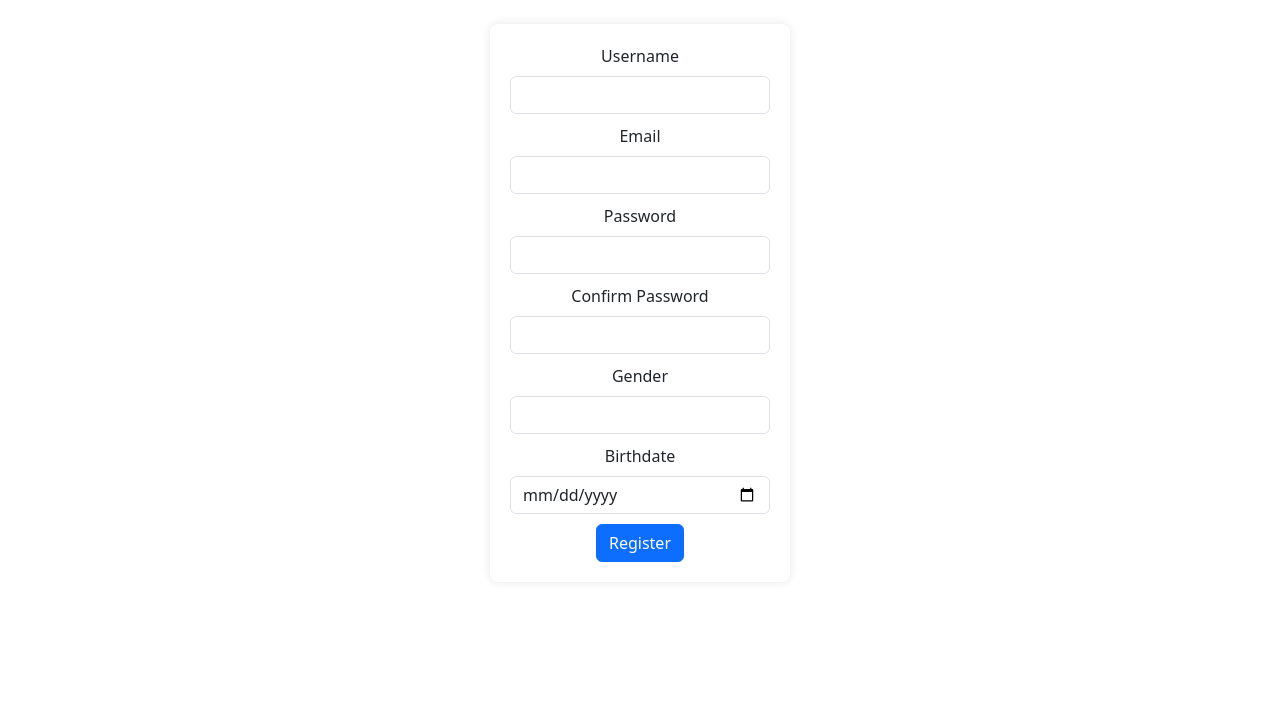
it: If password != confirm_password the popup for this error should be displayed
Type "testuser" into the field labelled "Username" at (640,95), box [510,76,770,114]
Type "test@test.com " into the field labelled "Email" at (640,175), box [510,156,770,194]
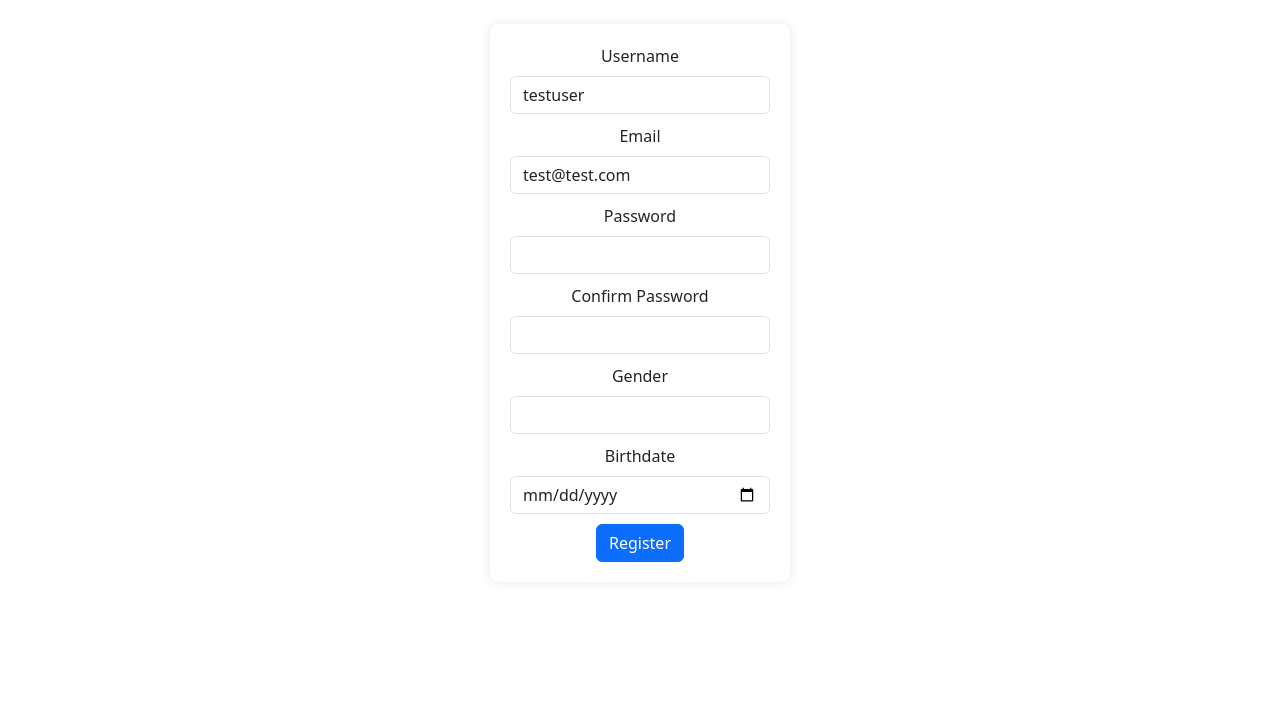
Type "password" into the password field labelled "Password" at (640,255), box [510,236,770,274]
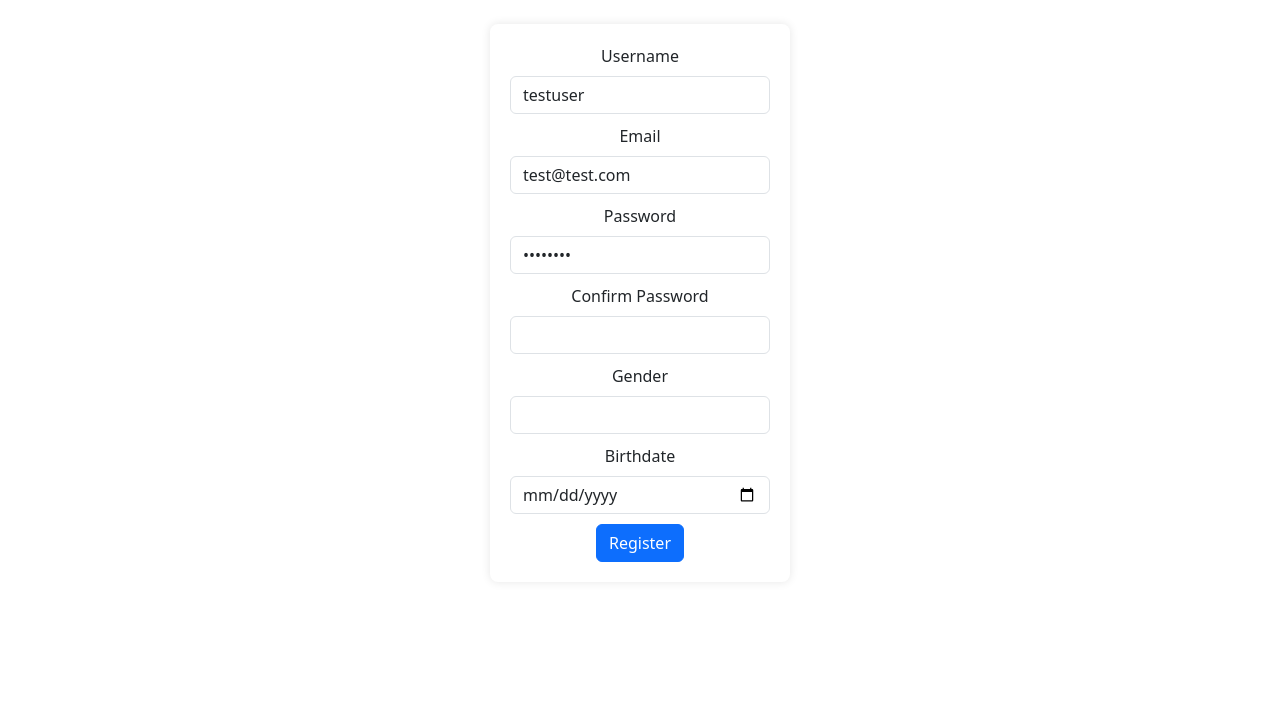
Type "p" into the password field labelled "Confirm Password" at (640,335), box [510,316,770,354]
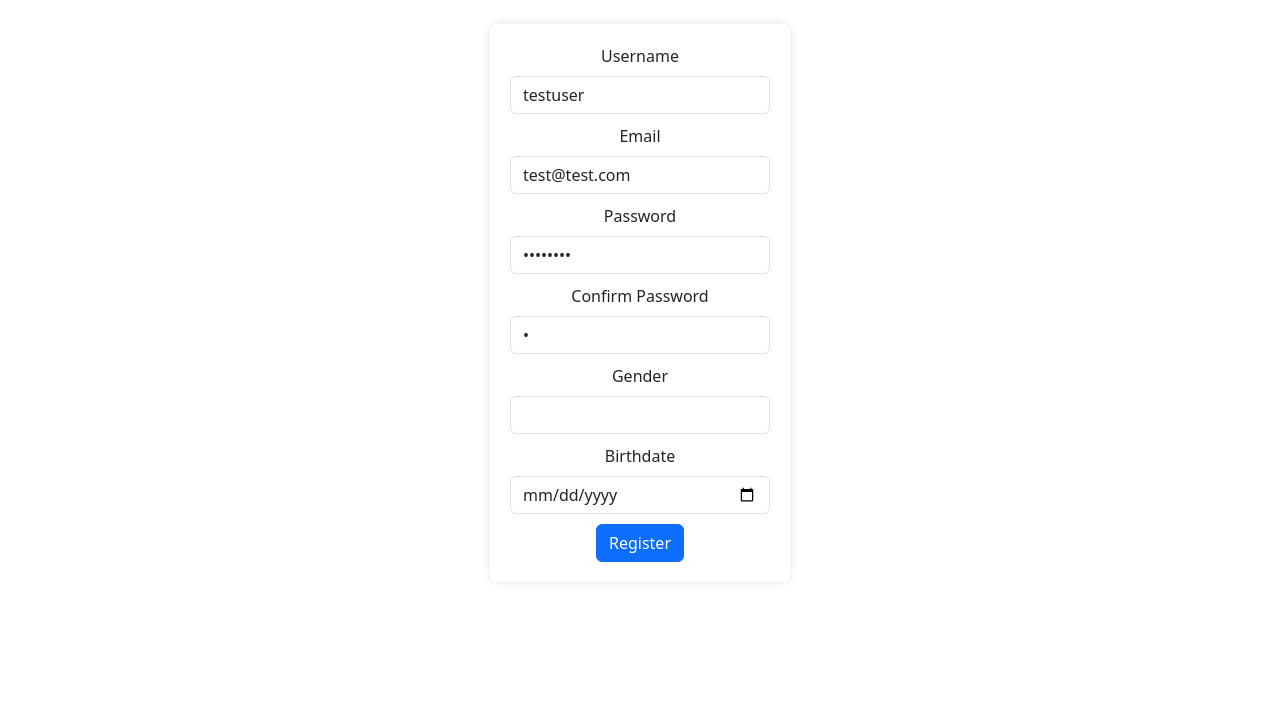
Type "male" into the field labelled "Gender" at (640,415), box [510,396,770,434]
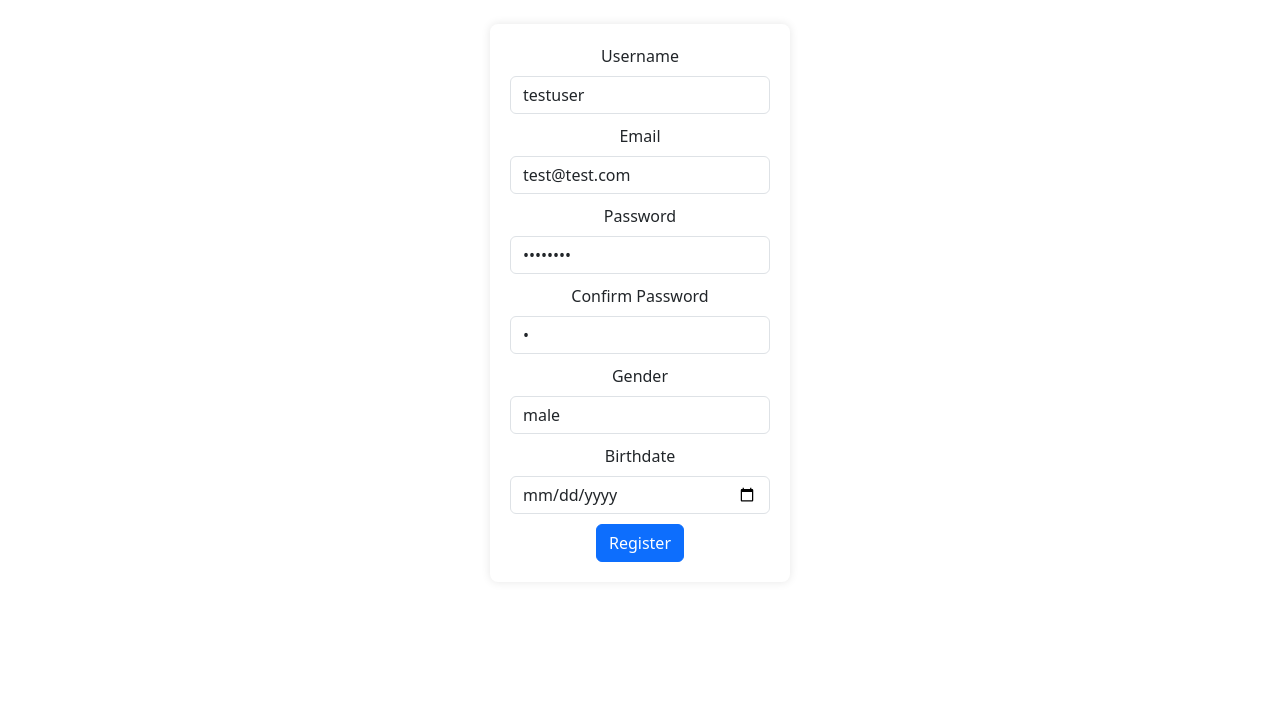
Type "2022-02-21" into the date field labelled "Birthdate" at (640,495), box [510,476,770,514]
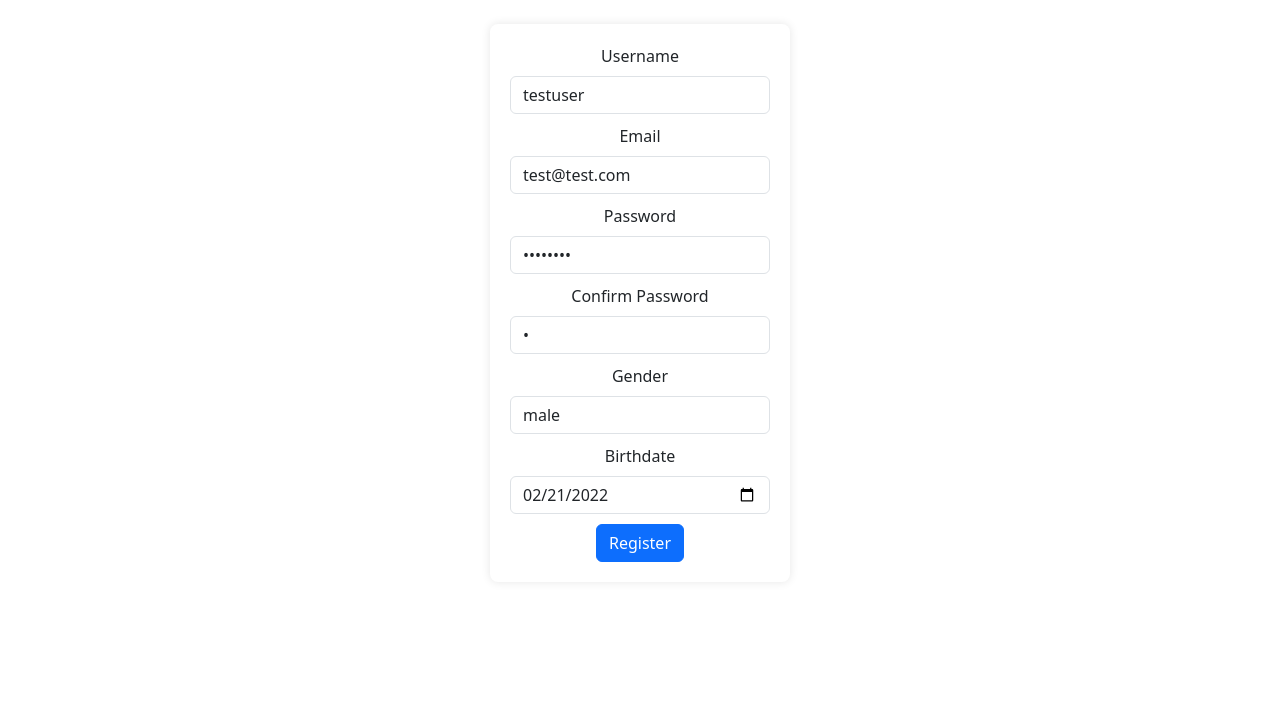
Click the button "Register" at (640,543), box [596,524,684,562]
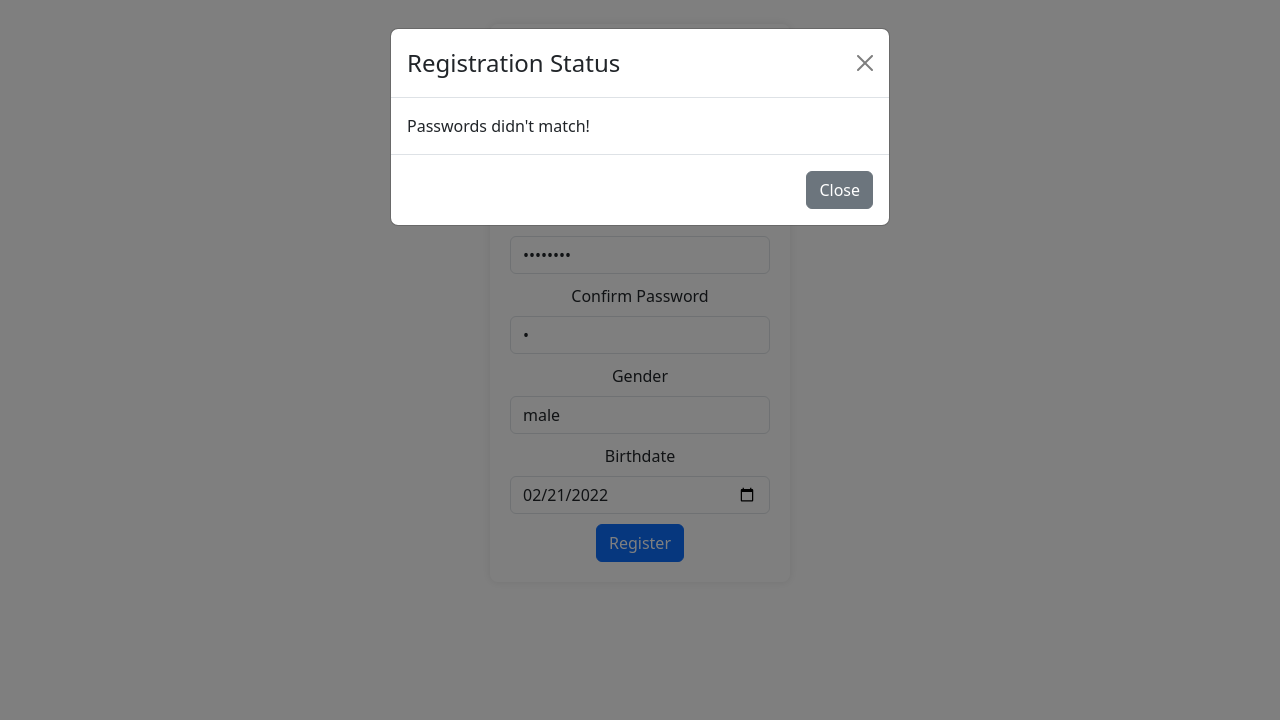
Result: the text "Passwords didn't match!" is shown at [407,115,590,137]
